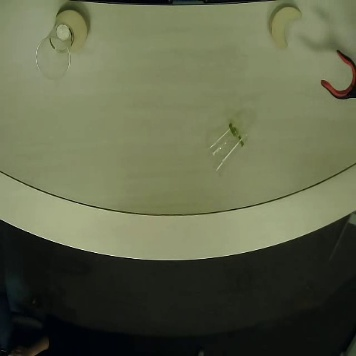empty_cup: (204, 121, 255, 175), (31, 23, 77, 82)
puck: (54, 7, 95, 54), (264, 4, 305, 51)
